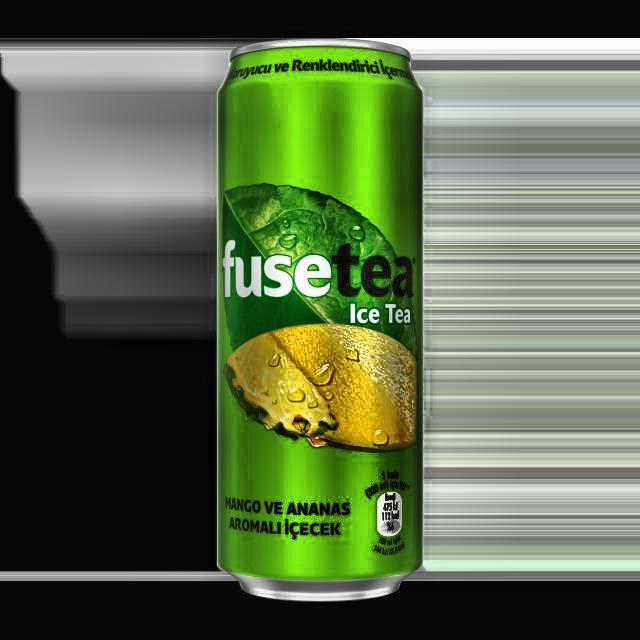metal: (216, 41, 423, 604)
